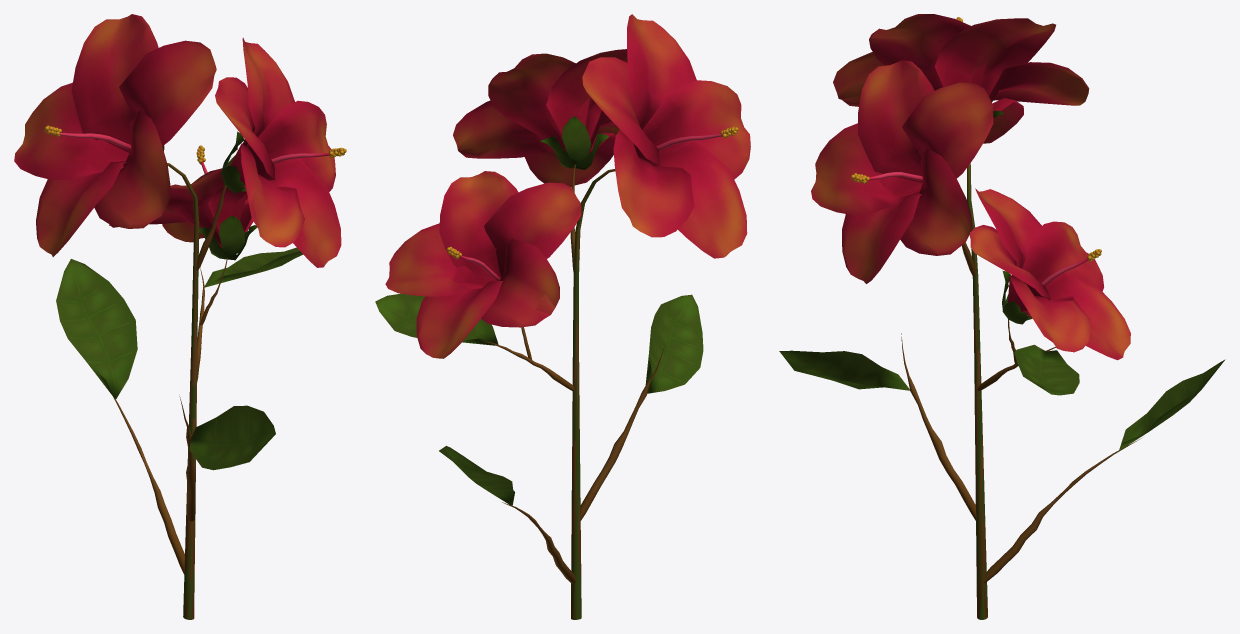
The model's file is realhibiscus.glb.
The picture shows the model from 3 angles, left to right: view 1: azimuth 30°, elevation 25°; view 2: azimuth 150°, elevation 25°; view 3: azimuth 270°, elevation 25°; orthographic projection. The views are drawn at different scales.
Visible parts, largest first — view 1: Object_6, Object_4, Object_3; view 2: Object_6, Object_4, Object_3; view 3: Object_6, Object_4, Object_3.
Part boxes in pixels (box(x1,y1,x2,y2)): Object_6: box(14, 14, 341, 619); Object_4: box(113, 158, 231, 574); Object_3: box(121, 146, 199, 619); Object_6: box(375, 14, 750, 619); Object_4: box(480, 164, 664, 583); Object_3: box(571, 170, 614, 619); Object_6: box(779, 14, 1225, 619); Object_4: box(901, 242, 1141, 582); Object_3: box(967, 163, 986, 619).
Bounding box in the file's own units: 0.182 × 0.32 × 0.2183.
2 materials, 2 textured.
